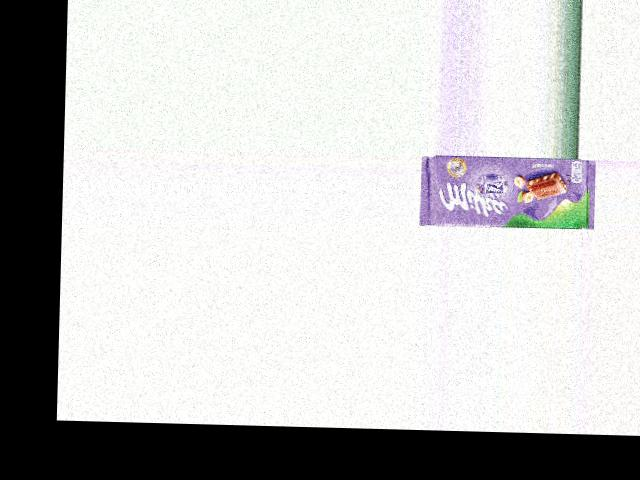chocolate: (419, 154, 596, 229)
